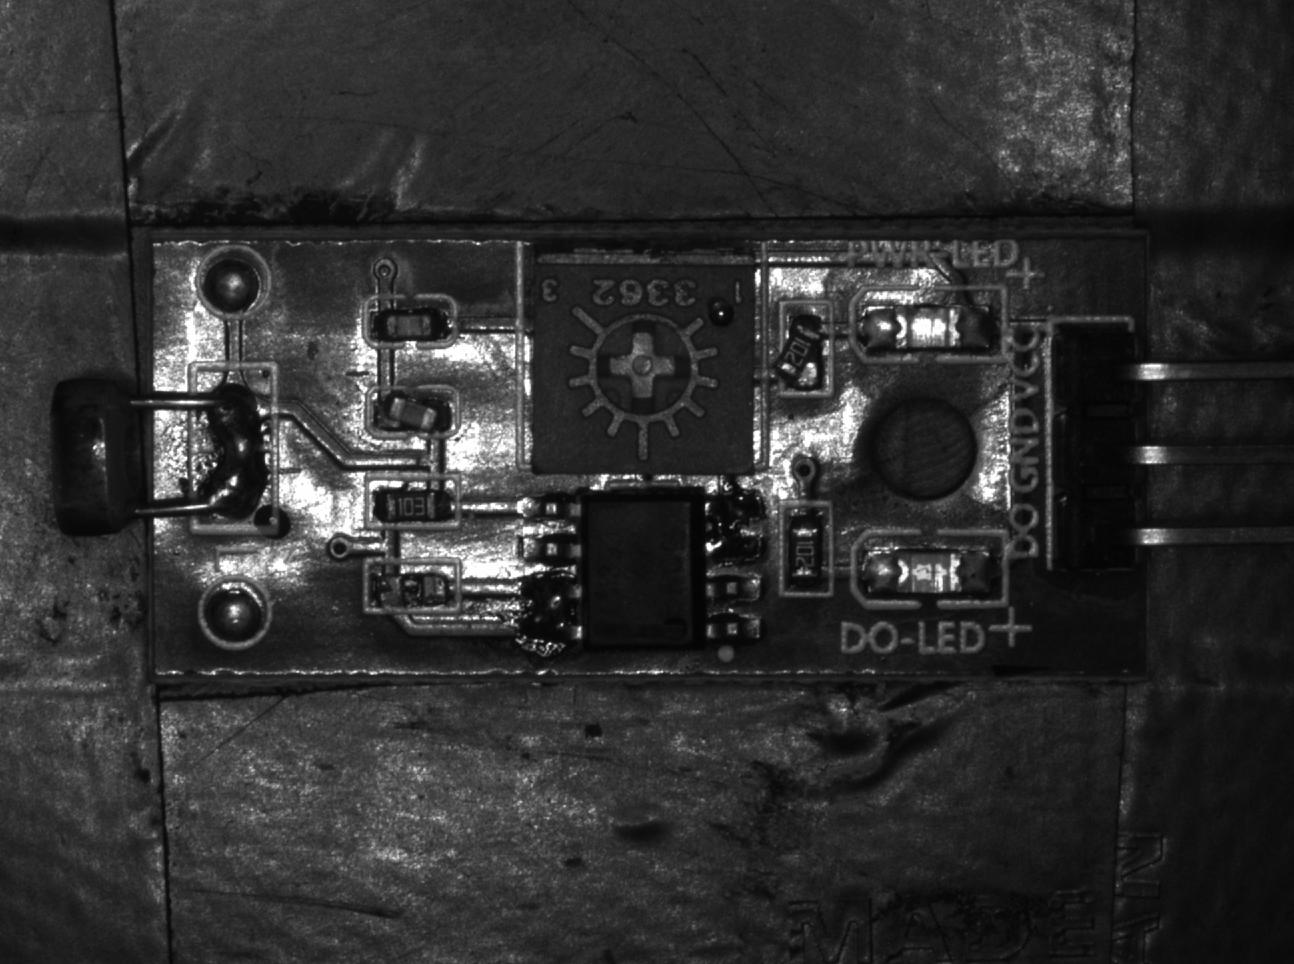bridge: (181, 359, 285, 536), (695, 481, 773, 564), (510, 564, 581, 655)
lifted: (365, 381, 461, 446), (771, 299, 833, 398)
miss: (363, 551, 461, 616)
ok: (361, 469, 464, 536), (781, 495, 835, 602), (360, 298, 456, 353)
